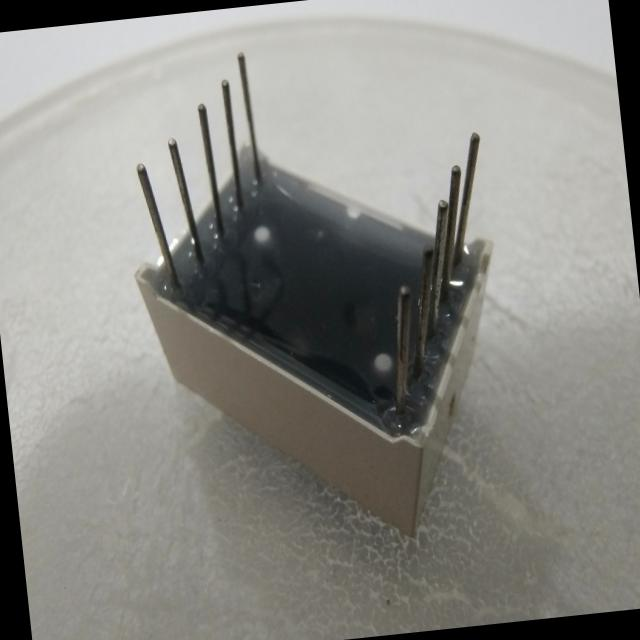7_segments: (101, 7, 538, 584)
